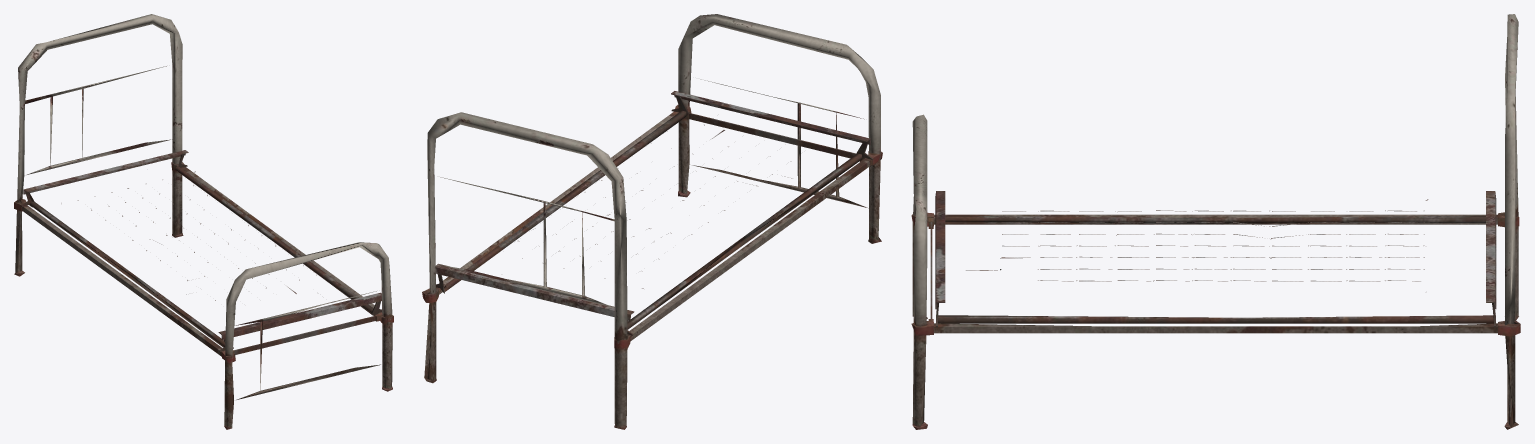
Rendered from old_bed_frame.glb.
3 renders of one model, left to right at view 1: azimuth 30°, elevation 25°; view 2: azimuth 150°, elevation 25°; view 3: azimuth 270°, elevation 25°, orthographic. The views are drawn at different scales.
Parts seen in each view (by area): view 1: old_bed_frame; view 2: old_bed_frame; view 3: old_bed_frame.
Part boxes in pixels (left/top/right/bottom): old_bed_frame: left=14, top=14, right=393, bottom=429; old_bed_frame: left=422, top=14, right=882, bottom=429; old_bed_frame: left=911, top=14, right=1520, bottom=429.
Size of the model in its own units: 0.9047 by 1.16 by 2.
Materials: 1 (1 with a texture image).
